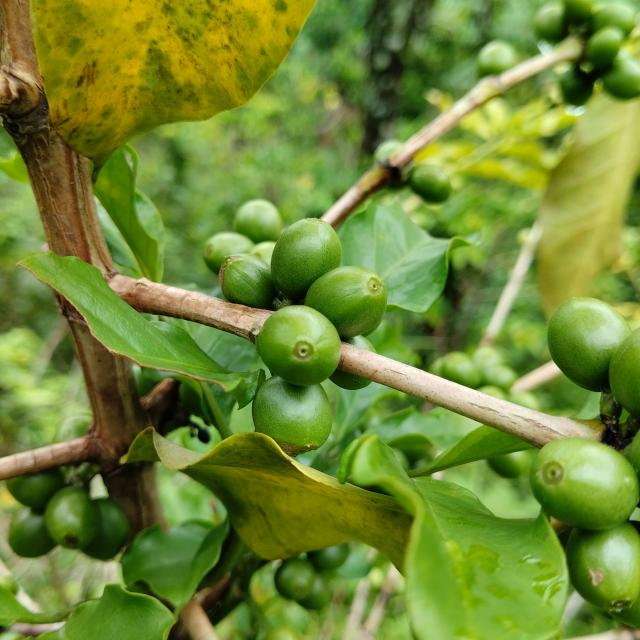green: (531, 438, 640, 531), (549, 297, 632, 392), (255, 305, 341, 386), (567, 522, 640, 612), (252, 376, 332, 457), (305, 265, 388, 338), (270, 218, 342, 299), (44, 487, 98, 550), (218, 253, 278, 309), (610, 328, 640, 420), (203, 231, 254, 274)
